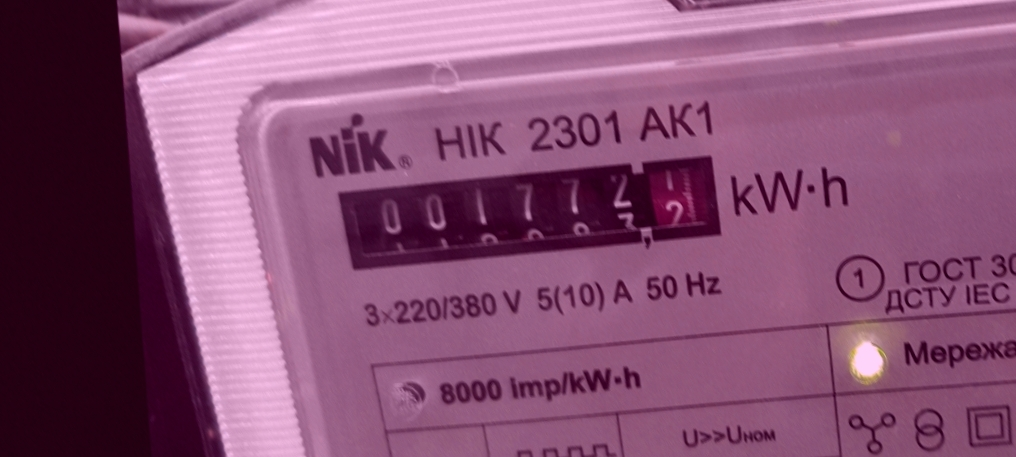0: (376, 193, 406, 235), (423, 189, 449, 230)
1: (471, 185, 491, 225), (662, 167, 677, 193)
2: (609, 171, 634, 209), (661, 196, 687, 226)
3: (616, 209, 639, 231)
7: (514, 180, 539, 222), (560, 175, 584, 215)
screen: (326, 143, 740, 281)
